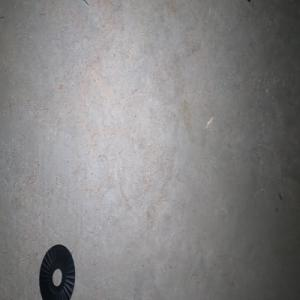Washer: (39, 244, 75, 300)
